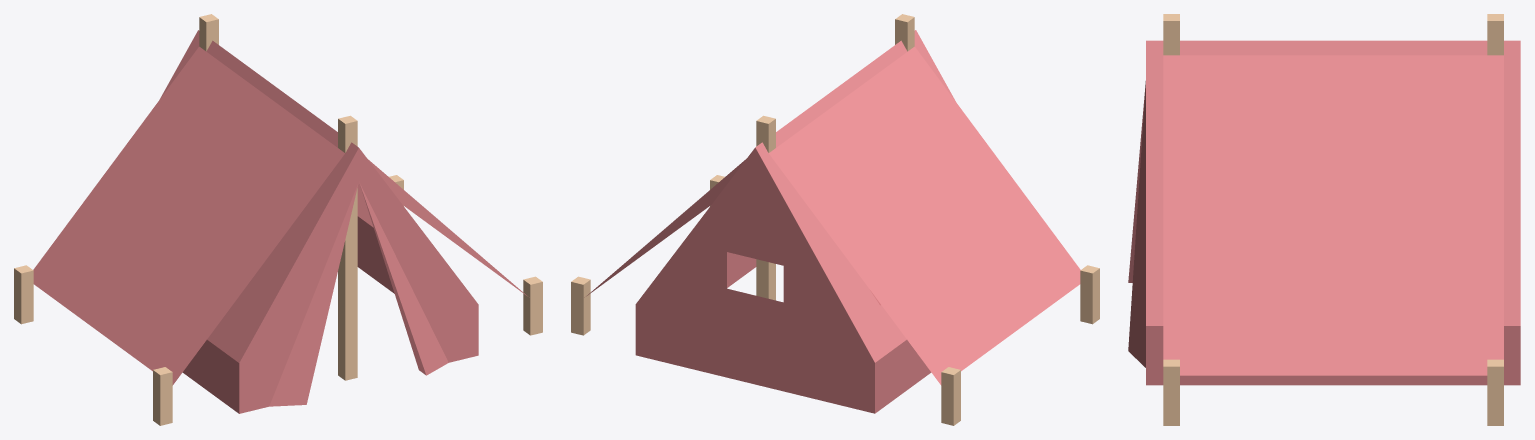
The model's file is tent_detailedOpen.glb.
3 views of the same model, side by side, from view 1: azimuth 30°, elevation 25°; view 2: azimuth 150°, elevation 25°; view 3: azimuth 270°, elevation 25° (orthographic). The views are drawn at different scales.
Visible parts, largest first — view 1: tent_detailedOpen; view 2: tent_detailedOpen; view 3: tent_detailedOpen.
Boxes of the visible parts, <box> form: tent_detailedOpen: <box>14,14,542,425</box>; tent_detailedOpen: <box>571,14,1099,425</box>; tent_detailedOpen: <box>1128,14,1520,425</box>.
Bounding box in the file's own units: 0.8749 × 0.5611 × 0.6664.
